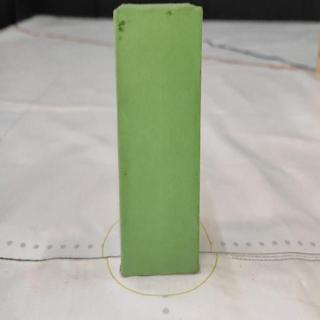greenbox: (110, 3, 205, 279)
